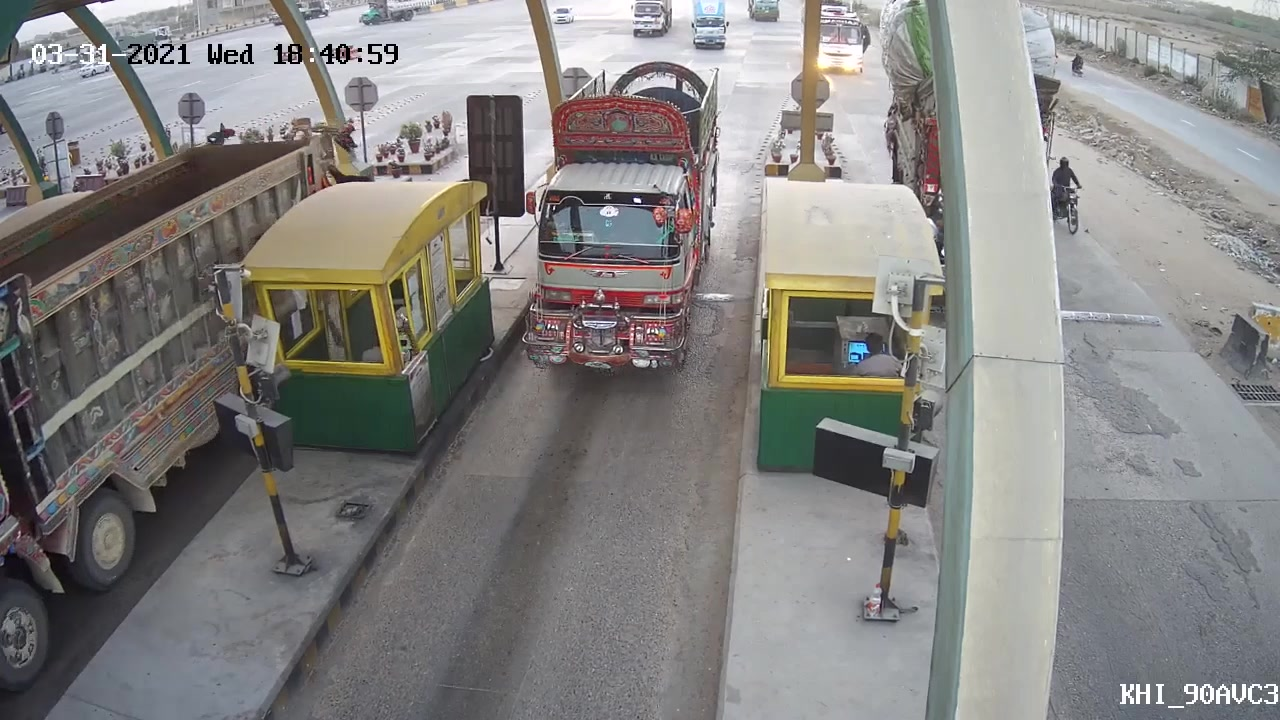F5: (511, 56, 735, 374)
